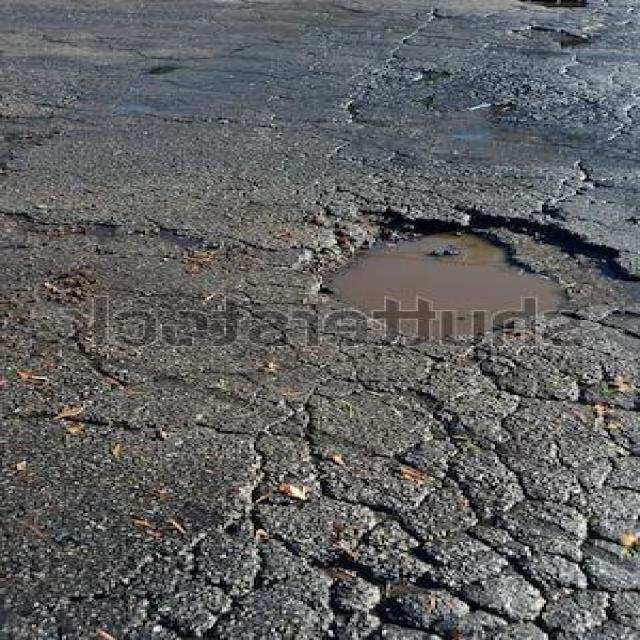pothole: (296, 204, 631, 369)
